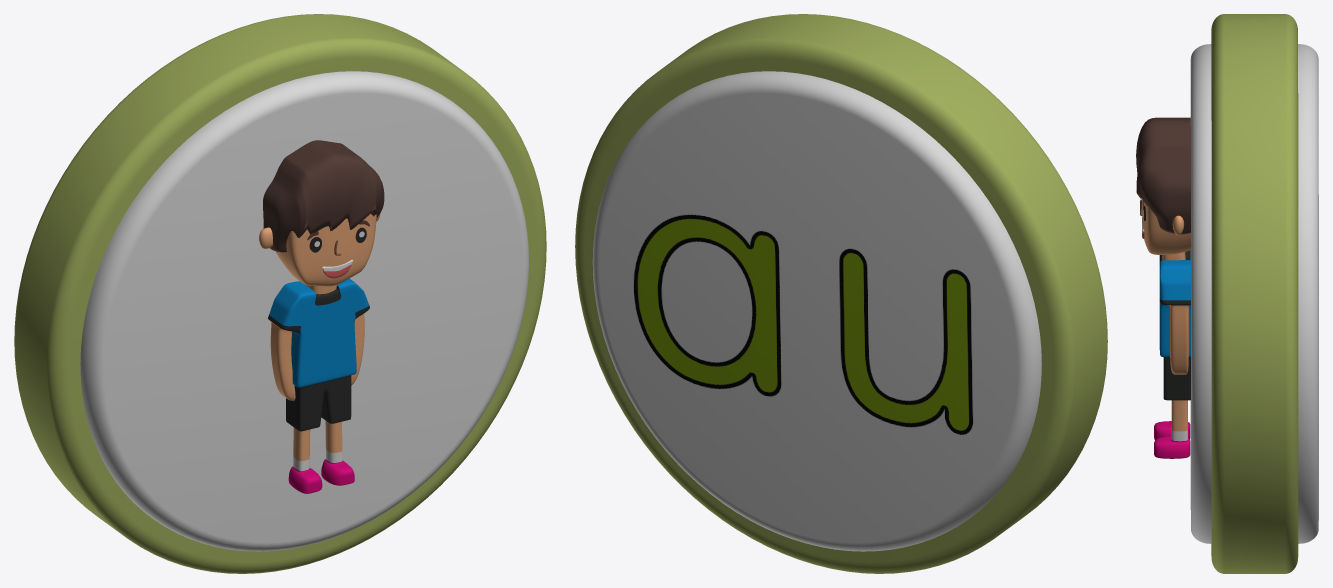
Rendered from boy4.gltf.
3 views of the same model, side by side, from view 1: azimuth 30°, elevation 25°; view 2: azimuth 150°, elevation 25°; view 3: azimuth 270°, elevation 25° (orthographic). The views are drawn at different scales.
Parts seen in each view (by area): view 1: Cylinder_2, Cylinder.001, Cube.000, Cube.002, Cube; view 2: Cylinder_2, Cylinder.001; view 3: Cylinder.001, Cylinder_2, Cube.000, Cube.002, Cube.
Boxes of the visible parts, x1,y1,x2,y2 form: Cylinder_2: (80,71,528,551); Cylinder.001: (14,14,546,573); Cube.000: (268,278,369,493); Cube.002: (263,140,384,252); Cube: (259,213,380,294); Cylinder_2: (592,71,1041,551); Cylinder.001: (575,14,1107,573); Cylinder.001: (1211,14,1298,573); Cylinder_2: (1190,44,1318,543); Cube.000: (1154,250,1190,458); Cube.002: (1136,117,1190,234); Cube: (1142,200,1190,260).
Bounding box in the file's own units: 2.56 × 2.56 × 0.8346.
Materials: 14 (1 with a texture image).
